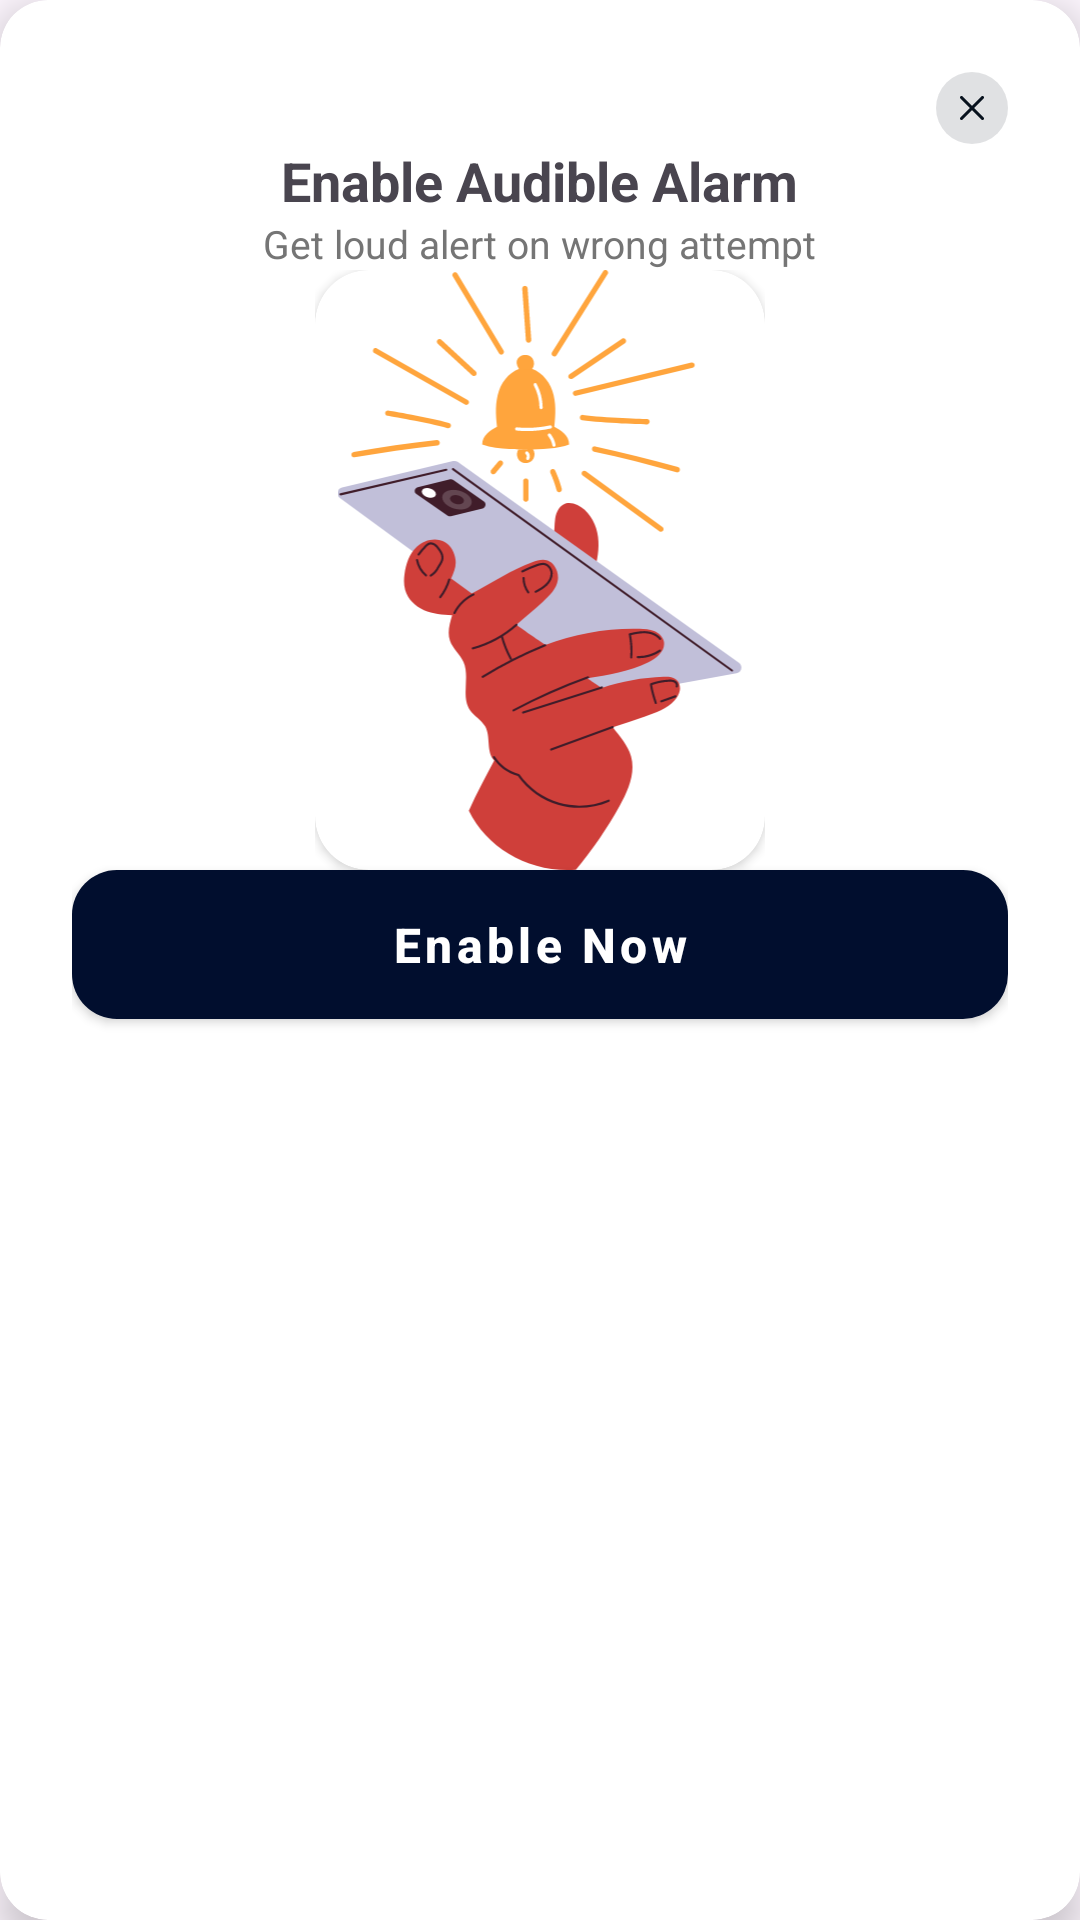

Icons on this 1080x1920 Android screen, each with its box as Rect(x1, y1, x2, y2):
close: Rect(936, 72, 1008, 144)
